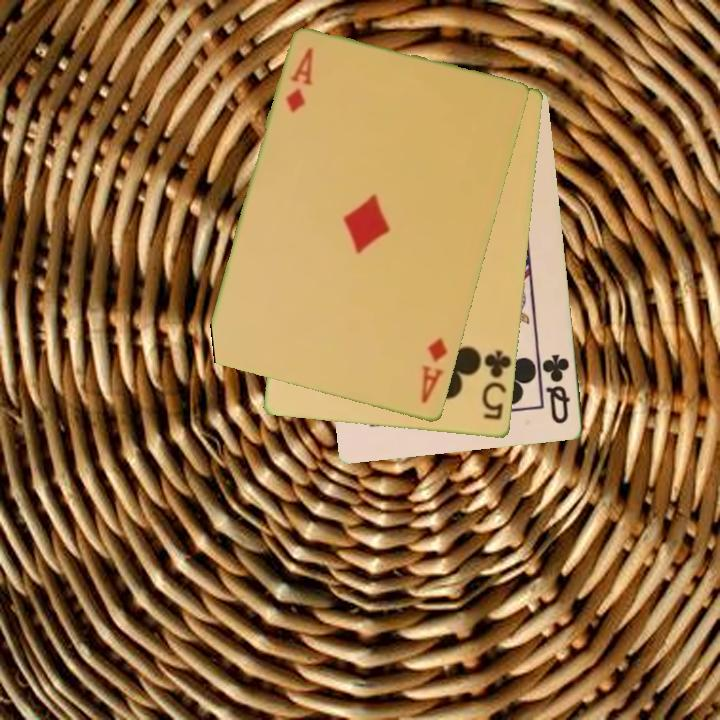5c: (479, 347, 514, 424)
Ad: (283, 44, 317, 116), (418, 334, 451, 407)
Qc: (539, 351, 573, 427)
